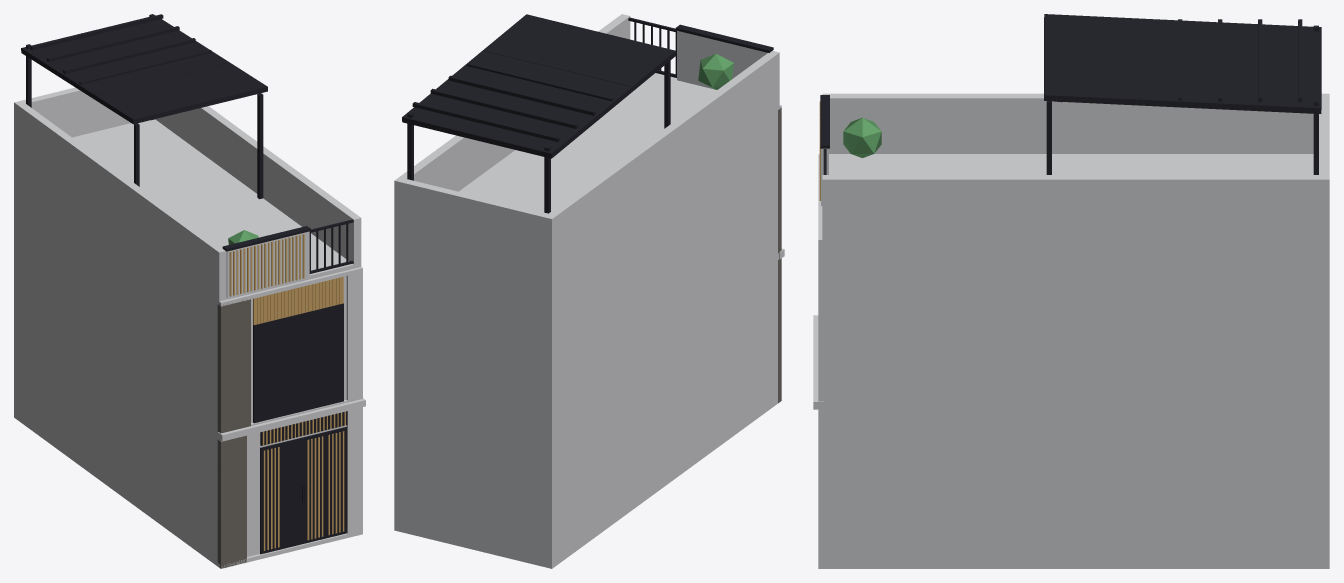
The picture shows the model from 3 angles, left to right: view 1: azimuth 30°, elevation 25°; view 2: azimuth 150°, elevation 25°; view 3: azimuth 270°, elevation 25°; orthographic projection. The views are drawn at different scales.
Parts seen in each view (by area): view 1: Object_4; view 2: Object_4; view 3: Object_4.
Part boxes in pixels (x1,y1,x2,y2): Object_4: (14,14,365,568); Object_4: (394,14,784,568); Object_4: (813,14,1329,568).
Bounding box in the file's own units: 3.84 × 9.75 × 9.67.
